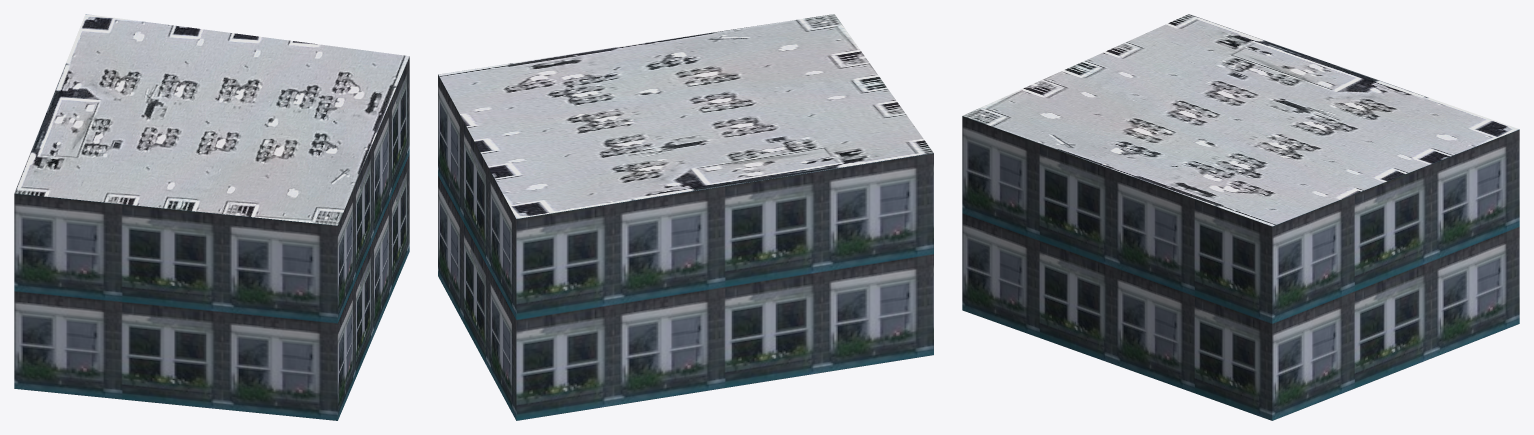
The model's file is ResTex__1186.fbx.
3 views of the same model, side by side, from view 1: azimuth 30°, elevation 25°; view 2: azimuth 150°, elevation 25°; view 3: azimuth 270°, elevation 25° (orthographic). The views are drawn at different scales.
Parts seen in each view (by area): view 1: CityEngineMaterial_11_m, CityEngineMaterial_m; view 2: CityEngineMaterial_11_m, CityEngineMaterial_m; view 3: CityEngineMaterial_11_m, CityEngineMaterial_m.
Part boxes in pixels (left/top/right/bottom): CityEngineMaterial_11_m: left=14, top=57, right=409, bottom=420; CityEngineMaterial_m: left=14, top=14, right=409, bottom=225; CityEngineMaterial_11_m: left=438, top=74, right=933, bottom=420; CityEngineMaterial_m: left=438, top=14, right=933, bottom=218; CityEngineMaterial_11_m: left=962, top=116, right=1519, bottom=420; CityEngineMaterial_m: left=962, top=14, right=1519, bottom=226.
Bounding box in the file's own units: 14.06 × 6 × 15.59.
2 materials, 2 textured.
